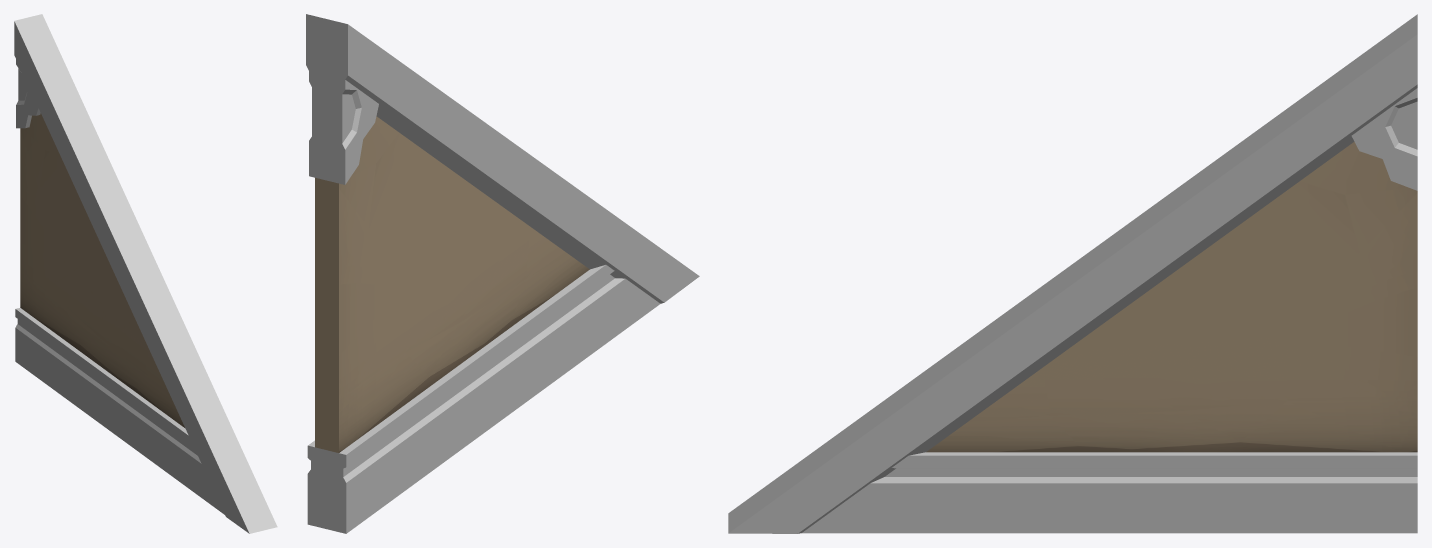
File: SM_Bld_Roof_End_01_Alt_01.fbx
The picture shows the model from 3 angles, left to right: view 1: azimuth 30°, elevation 25°; view 2: azimuth 150°, elevation 25°; view 3: azimuth 270°, elevation 25°; orthographic projection. The views are drawn at different scales.
Visible parts, largest first — view 1: SM_Bld_Roof_End_01_Alt_01; view 2: SM_Bld_Roof_End_01_Alt_01; view 3: SM_Bld_Roof_End_01_Alt_01.
Boxes of the visible parts, x1,y1,x2,y2 form: SM_Bld_Roof_End_01_Alt_01: (14,14,277,533); SM_Bld_Roof_End_01_Alt_01: (306,14,699,533); SM_Bld_Roof_End_01_Alt_01: (728,14,1417,533).
Bounding box in the file's own units: 8.61 × 100 × 125.
